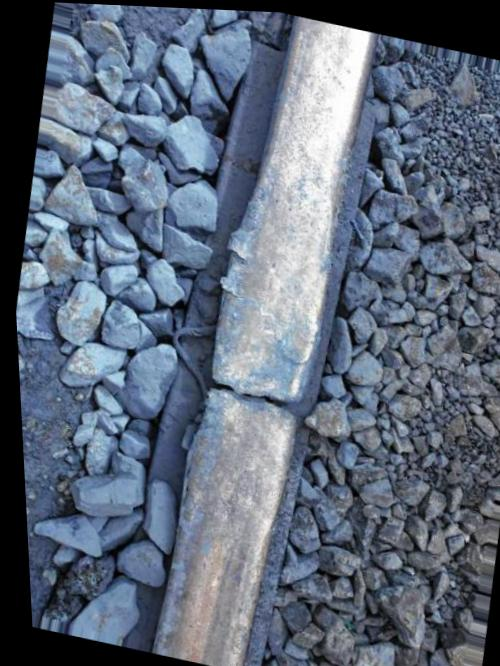person: (167, 316, 332, 476)
